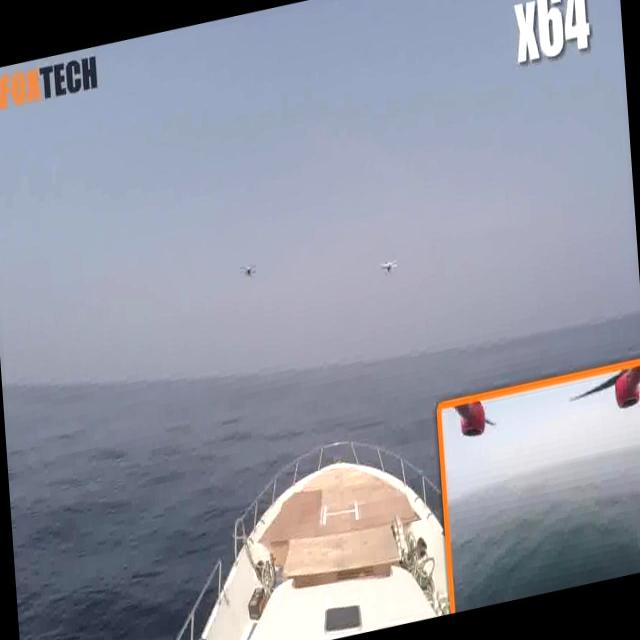drone: (376, 252, 400, 281), (235, 258, 259, 284)
